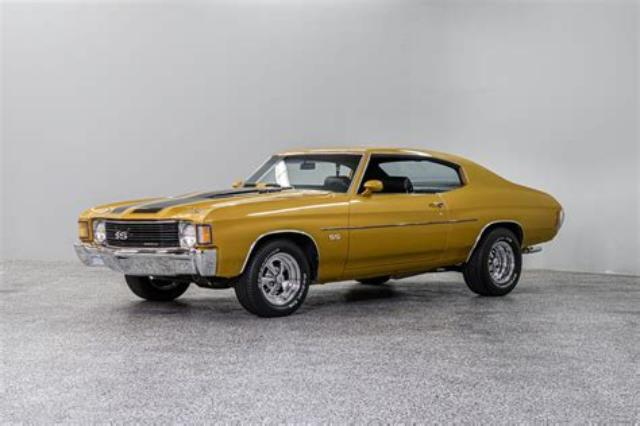chevelle-1972: (74, 147, 564, 317)
